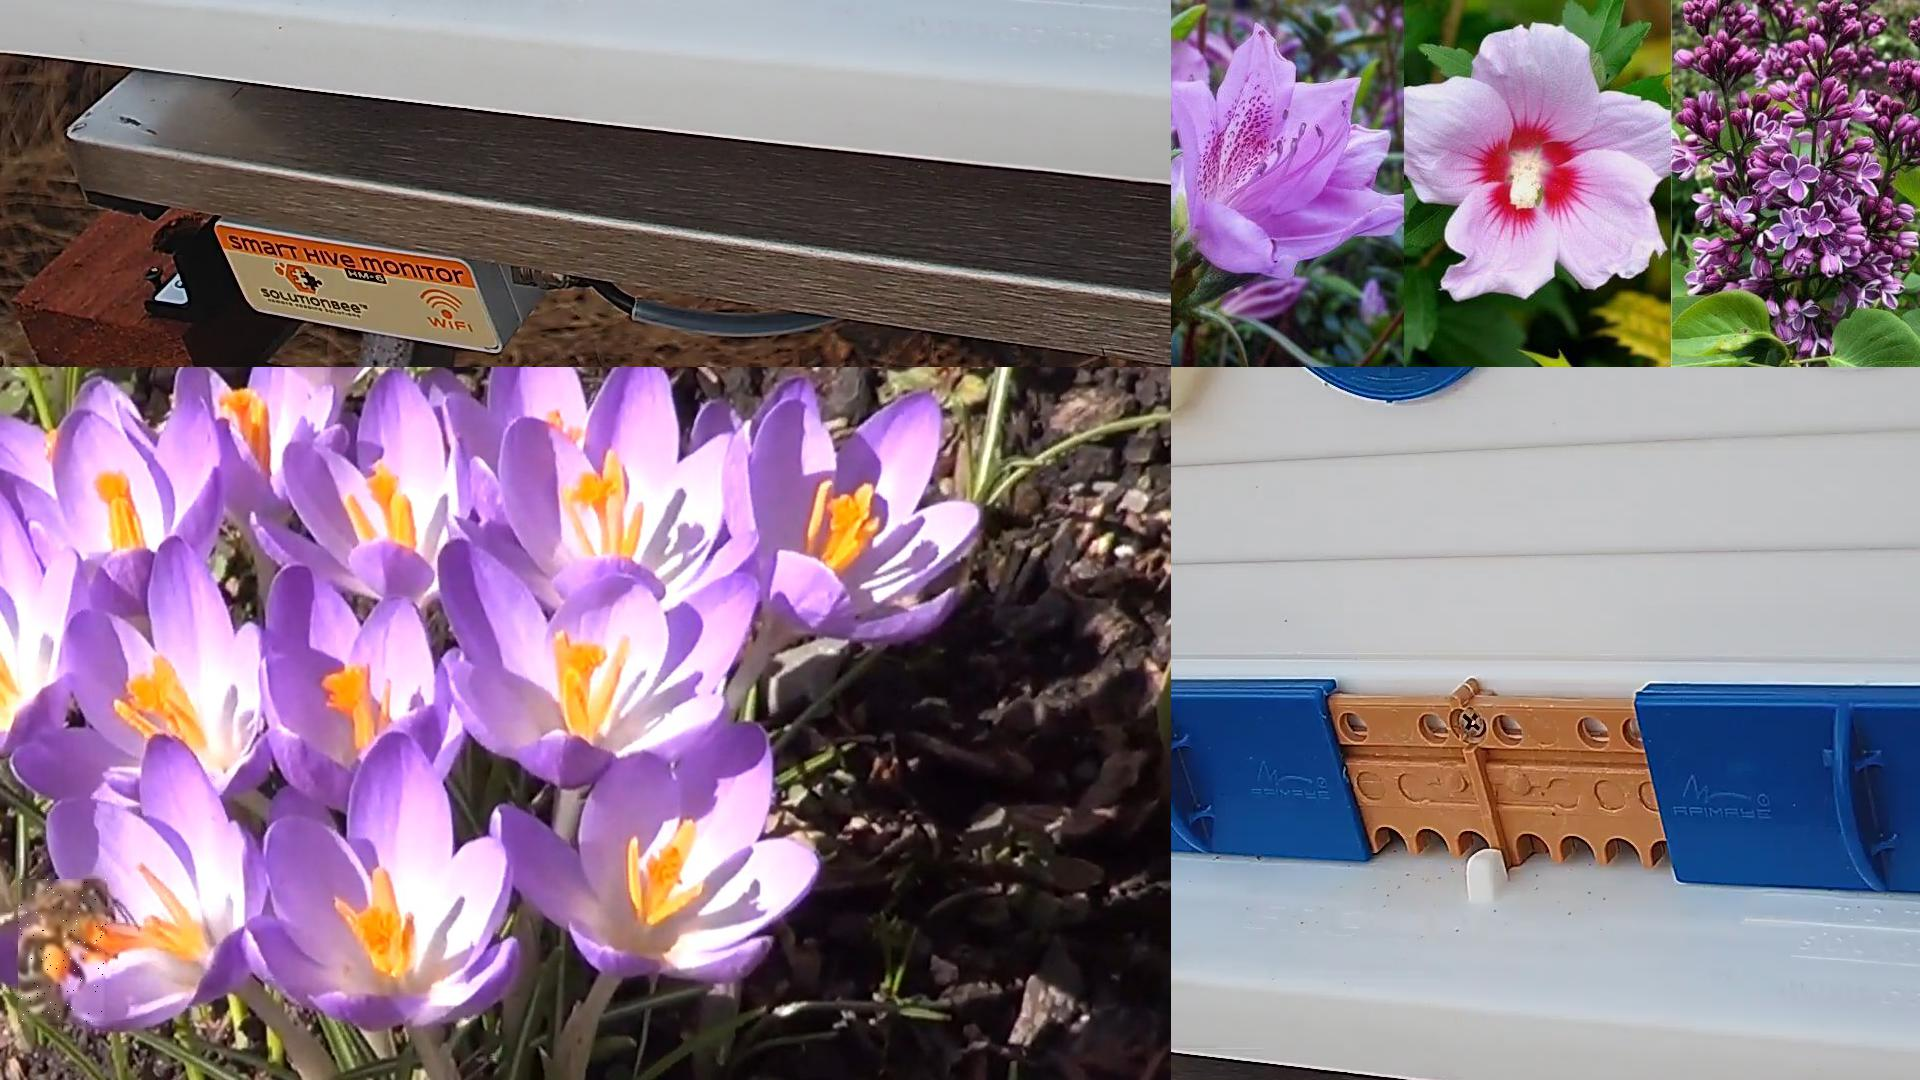pollenbee: (18, 880, 108, 1026)
